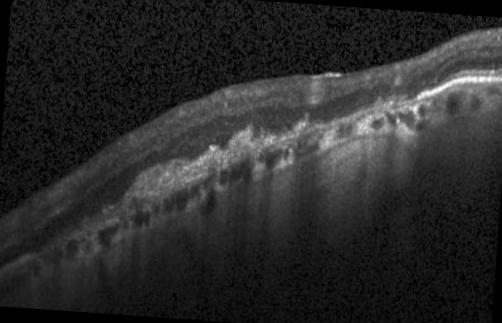subretinal_hyperreflective_material: (102, 119, 317, 219)
